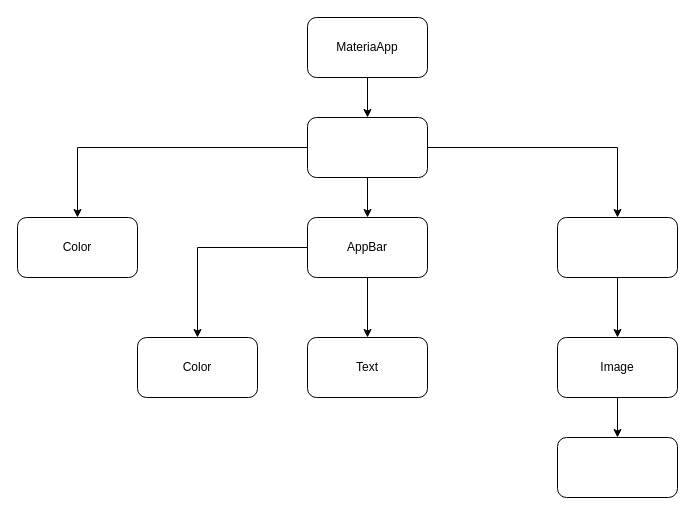
Some shapes in this 695 by 515 pixel diagram are drawn without their labels. Each missing label, with the box of its shape:
Center: (556, 216, 678, 278)
NetworkImage: (556, 436, 678, 498)
Scaffold: (306, 116, 428, 178)
